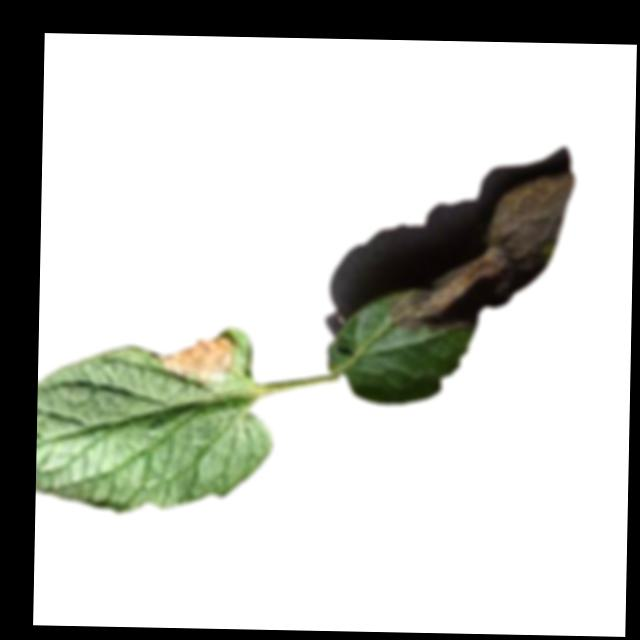Late_blight: (385, 169, 576, 338), (160, 330, 236, 379)
